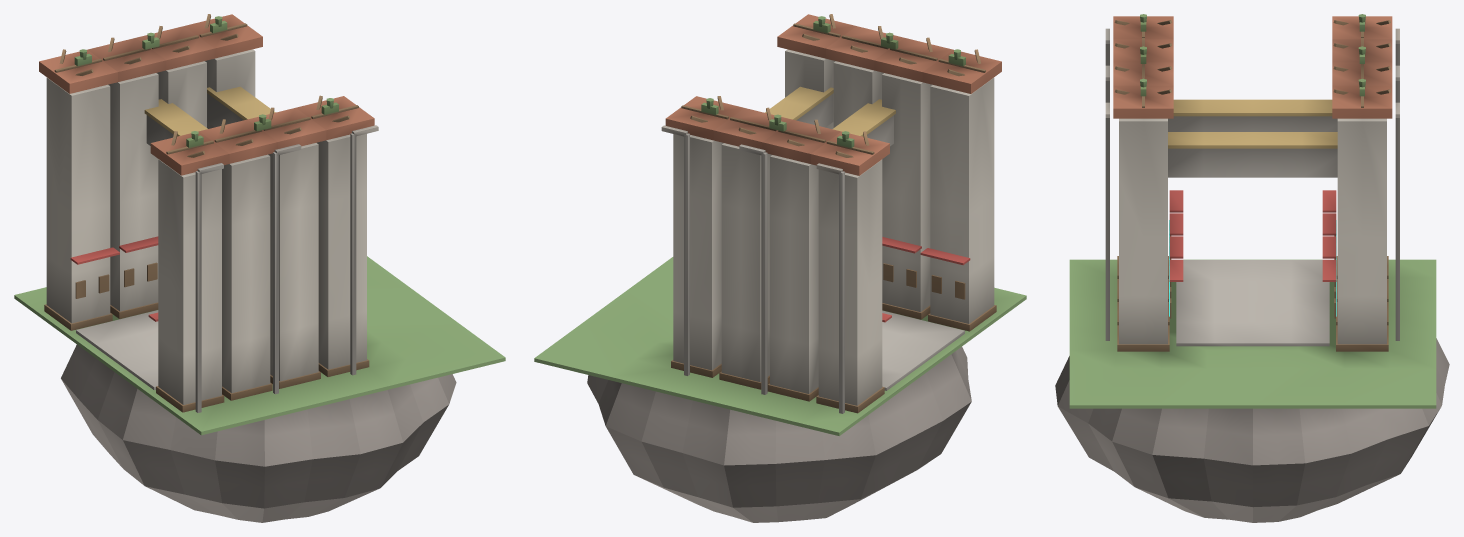
File: 05_market_isle.glb
The picture shows the model from 3 angles, left to right: view 1: azimuth 30°, elevation 25°; view 2: azimuth 150°, elevation 25°; view 3: azimuth 270°, elevation 25°; orthographic projection. The views are drawn at different scales.
Parts seen in each view (by area): view 1: market_isle_plaster, market_isle_rock, market_isle_grass, market_isle_rooftile, market_isle_stone, market_isle_wood_nocol, market_isle_brass_nocol, market_isle_grass_nocol, market_isle_canvasred_nocol; view 2: market_isle_plaster, market_isle_rock, market_isle_grass, market_isle_rooftile, market_isle_stone, market_isle_wood_nocol, market_isle_brass_nocol, market_isle_grass_nocol, market_isle_canvasred_nocol; view 3: market_isle_rock, market_isle_grass, market_isle_stone, market_isle_plaster, market_isle_rooftile, market_isle_brass_nocol, market_isle_wood_nocol, market_isle_canvasred_nocol, market_isle_grass_nocol.
Part boxes in pixels (x1=…): market_isle_plaster: x1=46, y1=49, x2=366, y2=404; market_isle_rock: x1=61, y1=344, x2=456, y2=522; market_isle_grass: x1=14, y1=256, x2=505, y2=435; market_isle_rooftile: x1=39, y1=14, x2=374, y2=175; market_isle_stone: x1=76, y1=93, x2=378, y2=412; market_isle_wood_nocol: x1=44, y1=14, x2=369, y2=412; market_isle_brass_nocol: x1=144, y1=86, x2=275, y2=136; market_isle_grass_nocol: x1=74, y1=16, x2=338, y2=147; market_isle_canvasred_nocol: x1=70, y1=236, x2=158, y2=321; market_isle_plaster: x1=673, y1=49, x2=994, y2=405; market_isle_rock: x1=587, y1=347, x2=971, y2=522; market_isle_grass: x1=534, y1=257, x2=1026, y2=435; market_isle_rooftile: x1=665, y1=14, x2=1001, y2=175; market_isle_stone: x1=661, y1=93, x2=964, y2=413; market_isle_wood_nocol: x1=671, y1=14, x2=996, y2=413; market_isle_brass_nocol: x1=765, y1=86, x2=895, y2=136; market_isle_grass_nocol: x1=701, y1=16, x2=965, y2=148; market_isle_canvasred_nocol: x1=882, y1=237, x2=970, y2=322; market_isle_rock: x1=1055, y1=338, x2=1449, y2=522; market_isle_grass: x1=1069, y1=259, x2=1436, y2=408; market_isle_stone: x1=1105, y1=28, x2=1399, y2=346; market_isle_plaster: x1=1119, y1=118, x2=1386, y2=344; market_isle_rooftile: x1=1113, y1=16, x2=1392, y2=118; market_isle_brass_nocol: x1=1168, y1=99, x2=1337, y2=148; market_isle_wood_nocol: x1=1114, y1=20, x2=1390, y2=351; market_isle_canvasred_nocol: x1=1169, y1=190, x2=1336, y2=281; market_isle_grass_nocol: x1=1140, y1=14, x2=1365, y2=96.
Bounding box in the file's own units: 68.58 × 82.9 × 72.1.
